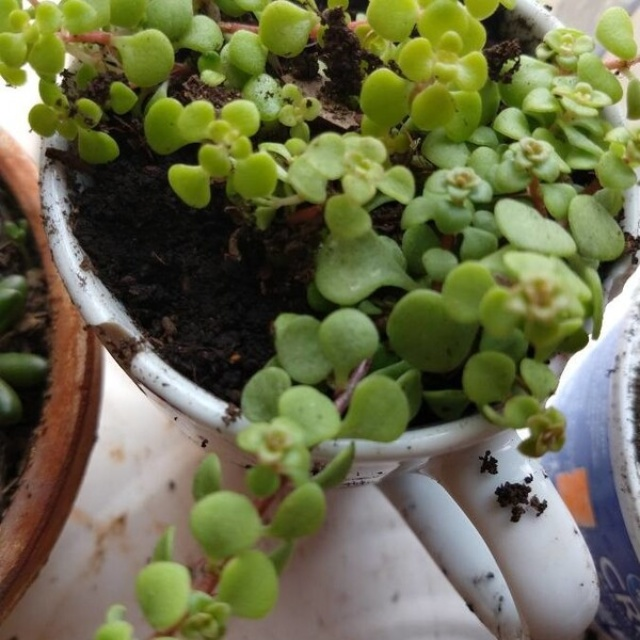obstacle: (26, 2, 615, 505)
